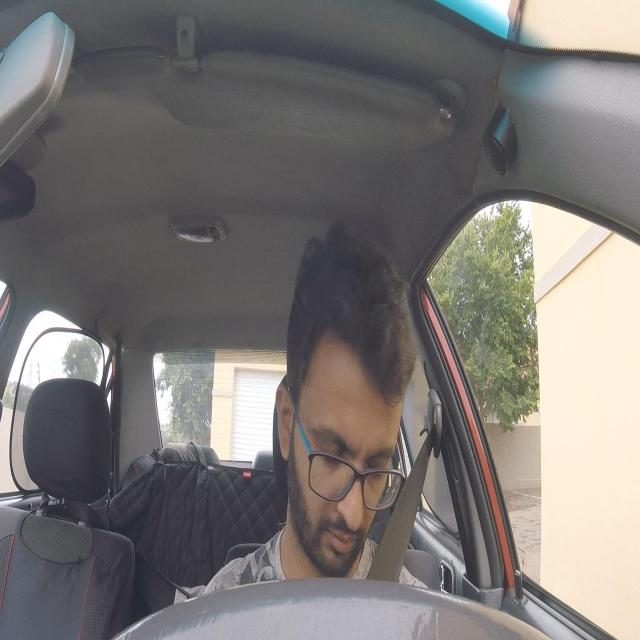close: (312, 422, 348, 472), (366, 442, 394, 491)
